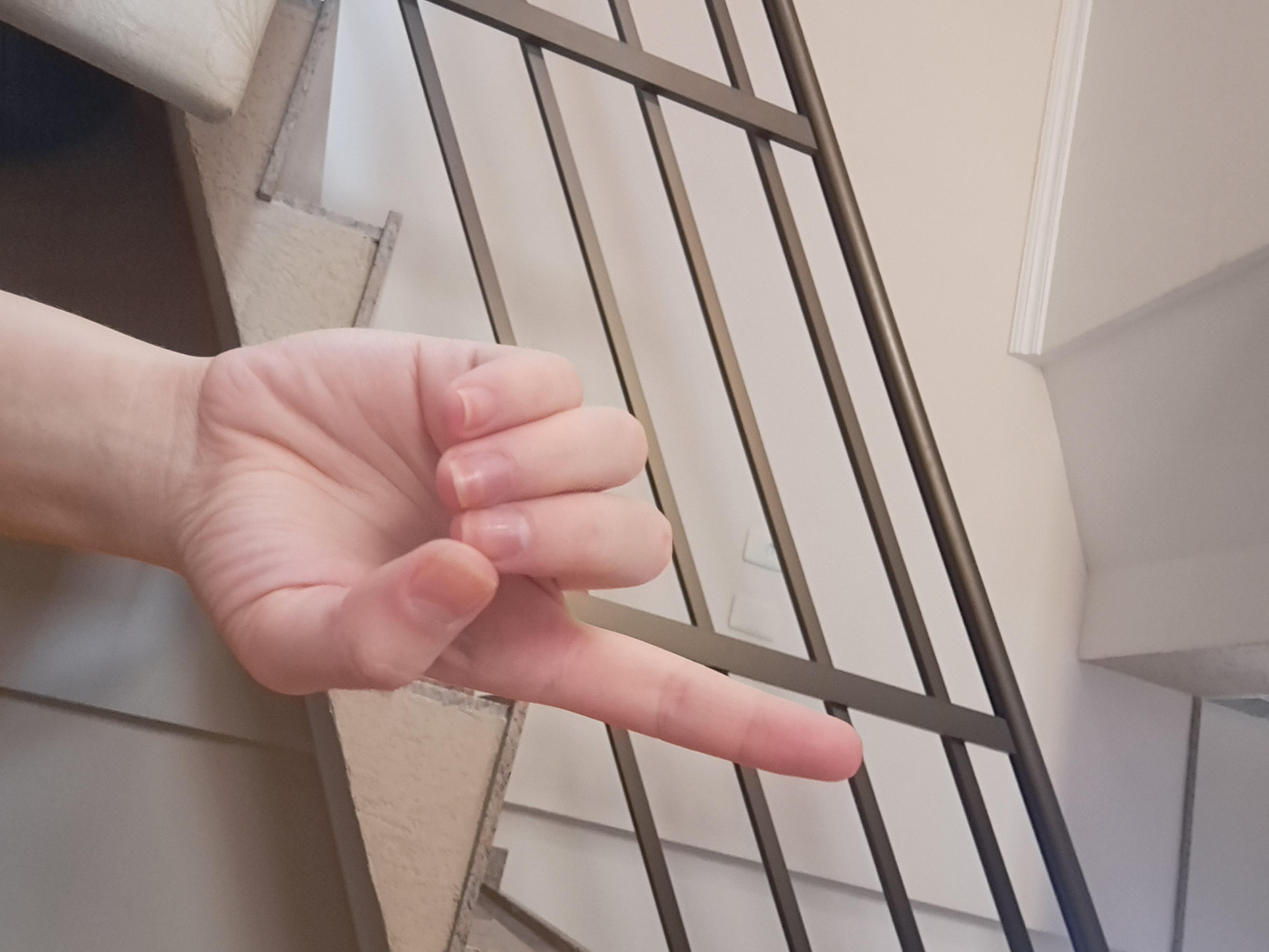D2: (415, 298, 1063, 811)
